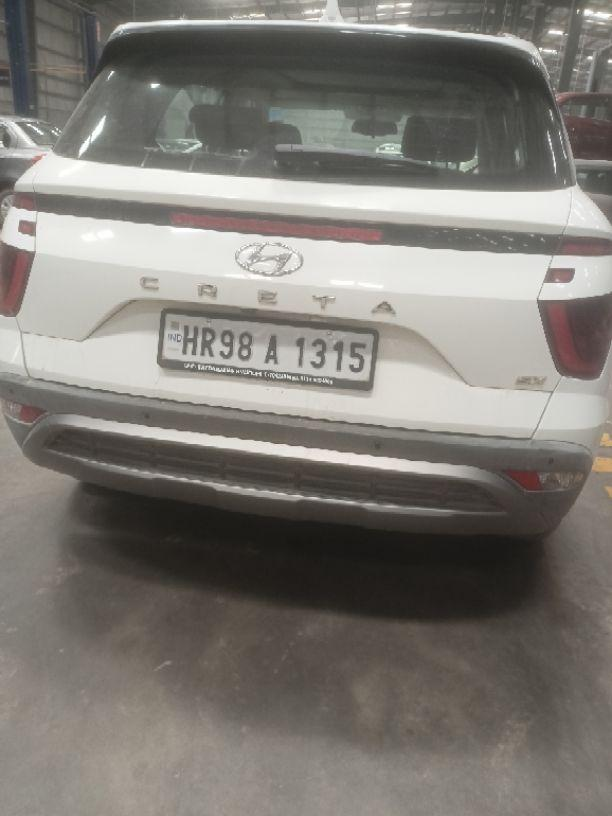license_plate: (155, 306, 379, 391)
